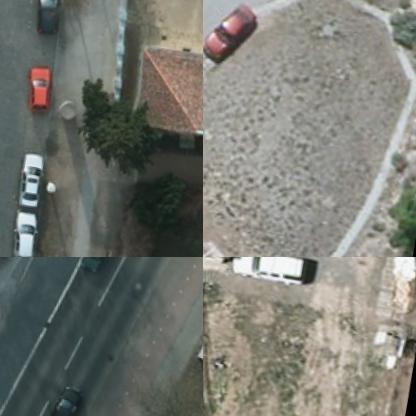car: (203, 0, 262, 72), (229, 257, 314, 287), (16, 148, 54, 206), (30, 0, 72, 42), (7, 208, 43, 256), (22, 63, 58, 110), (43, 382, 86, 415), (78, 257, 122, 274)
